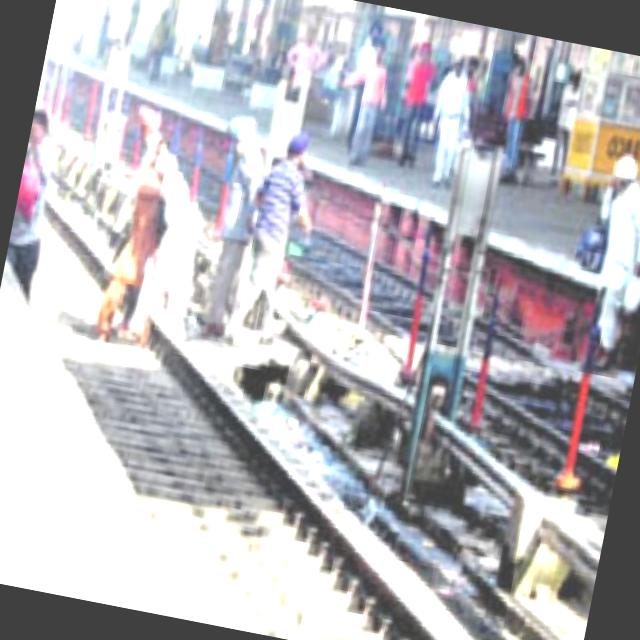Person: (217, 127, 330, 362), (571, 147, 640, 387), (126, 150, 204, 354), (4, 100, 70, 289)
